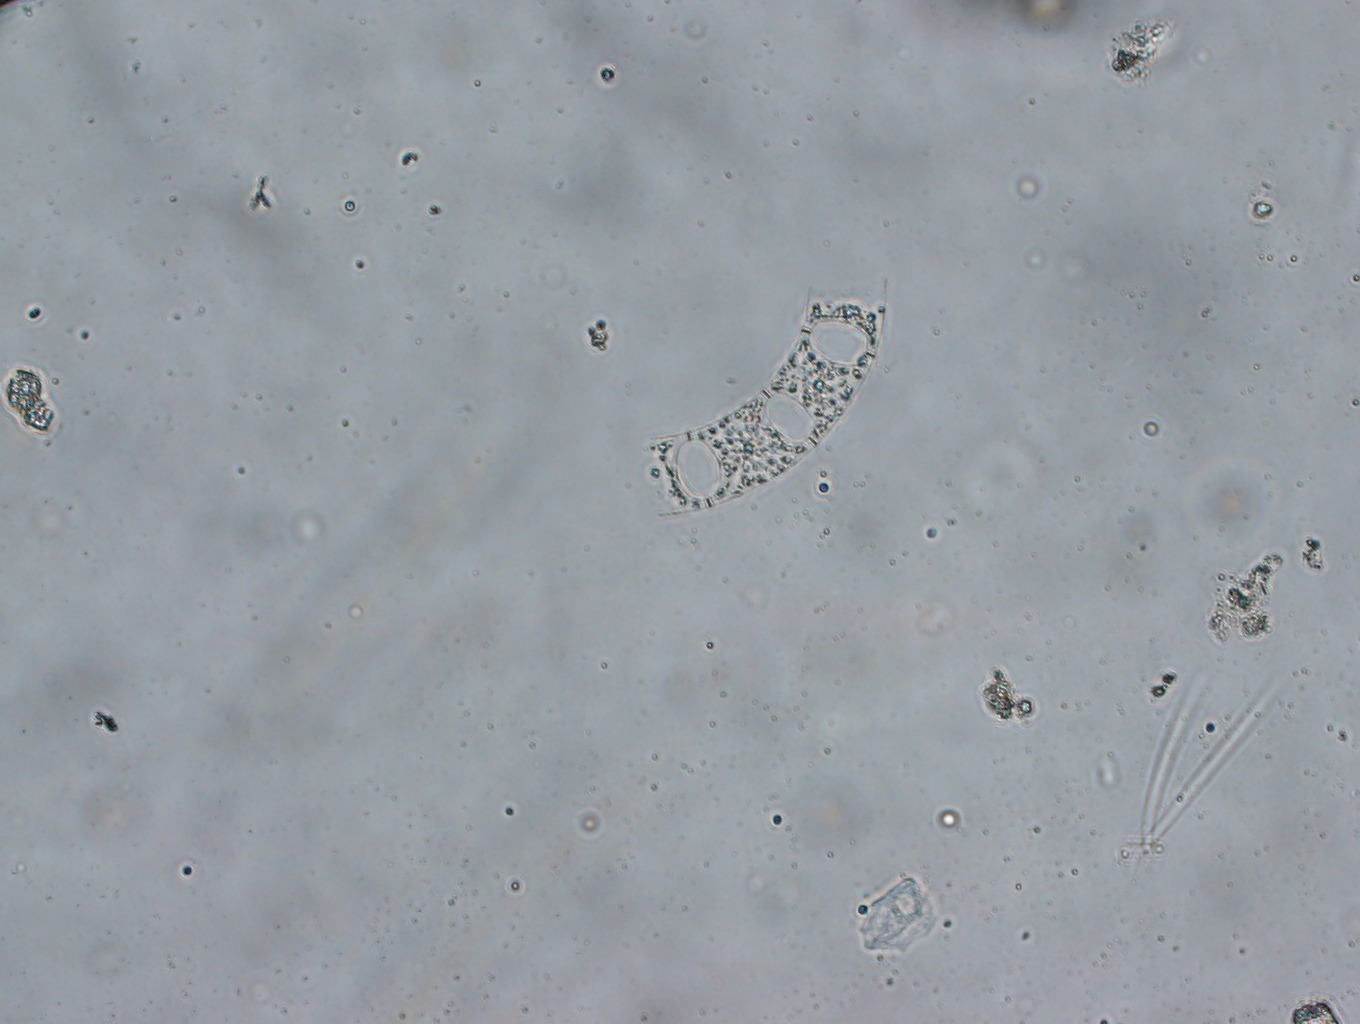eucampia: (644, 286, 885, 517)
